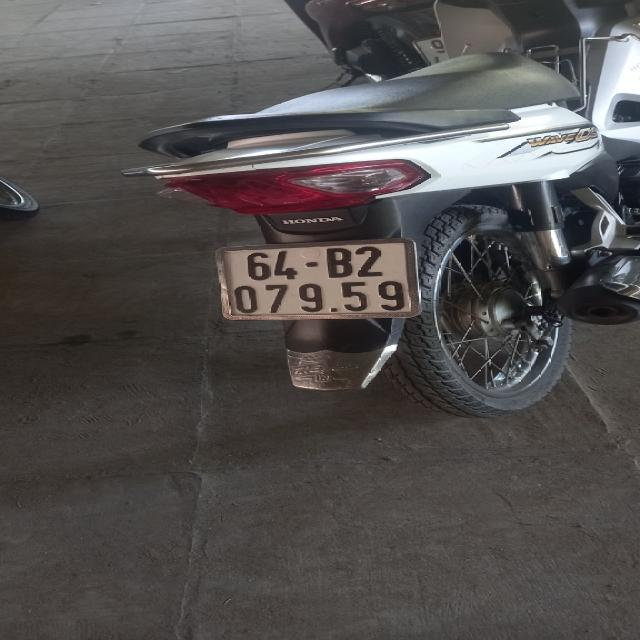0: (235, 286, 261, 314)
2: (356, 246, 384, 277)
4: (272, 252, 302, 280)
5: (340, 282, 371, 312)
6: (246, 252, 272, 282)
7: (264, 284, 290, 314)
9: (377, 280, 406, 311), (299, 283, 322, 313)
B: (324, 247, 352, 278)
